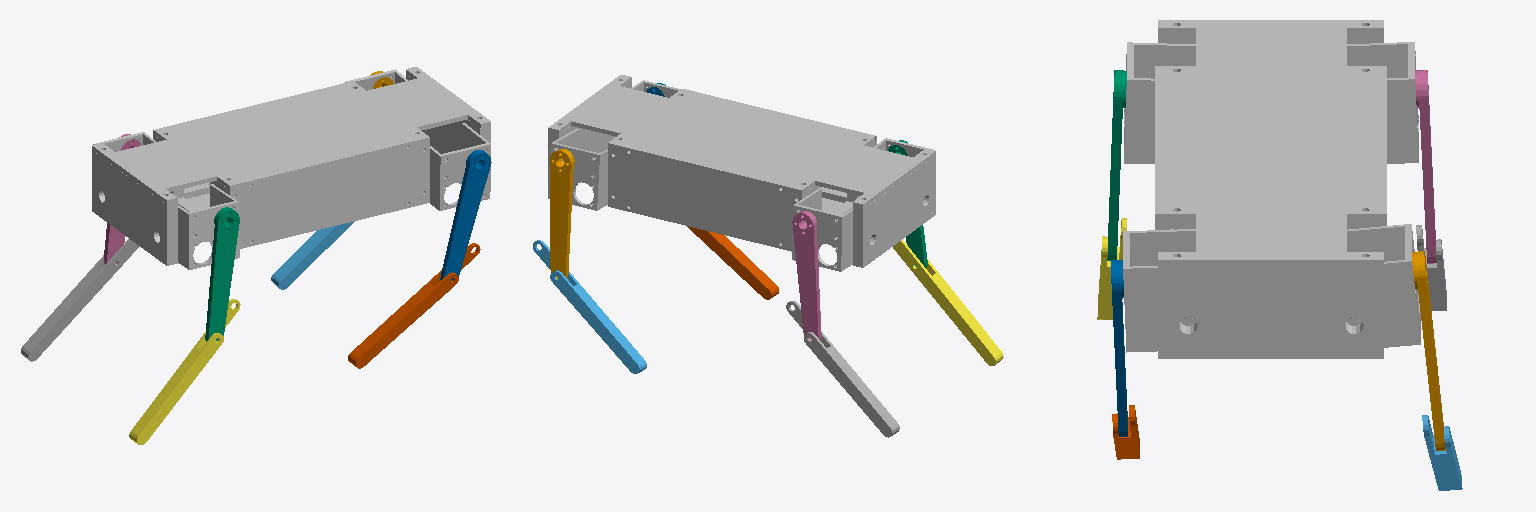
robot.urdf — Assem_urdf:
<?xml version="1.0"?>
<robot name="Assem_urdf">

  <ros2_control name="RobotDogSystem" type="system">
    <hardware>
      <plugin>gazebo_ros2_control/GazeboSystem</plugin>
    </hardware>

    <joint name="lw1">
      <command_interface name="position"/>
      <state_interface name="position"/>
      <state_interface name="velocity"/>
    </joint>
    <joint name="lf1">
      <command_interface name="position"/>
      <state_interface name="position"/>
      <state_interface name="velocity"/>
    </joint>
    <joint name="lw2">
      <command_interface name="position"/>
      <state_interface name="position"/>
      <state_interface name="velocity"/>
    </joint>
    <joint name="lf2">
      <command_interface name="position"/>
      <state_interface name="position"/>
      <state_interface name="velocity"/>
    </joint>
    <joint name="rw1">
      <command_interface name="position"/>
      <state_interface name="position"/>
      <state_interface name="velocity"/>
    </joint>
    <joint name="rf1">
      <command_interface name="position"/>
      <state_interface name="position"/>
      <state_interface name="velocity"/>
    </joint>
    <joint name="rw2">
      <command_interface name="position"/>
      <state_interface name="position"/>
      <state_interface name="velocity"/>
    </joint>
    <joint name="rf2">
      <command_interface name="position"/>
      <state_interface name="position"/>
      <state_interface name="velocity"/>
    </joint>
  </ros2_control>

  <!-- ==================== Gazebo ros2_control plugin ==================== -->
  <gazebo>
    <plugin name="gazebo_ros2_control" filename="libgazebo_ros2_control.so">
      <!-- This YAML is installed into ros2_ws/install/share/robot_dog_description/config -->
      <parameters>[local-path]/ros2_ws/install/share/robot_dog_description/config/dog_ros2_control.yaml</parameters>
      <!-- Node that holds robot_description -->
      <robot_param_node>robot_state_publisher</robot_param_node>
    </plugin>
  </gazebo>


  <!-- ====================== BASE ====================== -->

  <link name="world"/>

  <joint name="fixed" type="fixed">
    <parent link="world"/>
    <child  link="base_link"/>
  </joint>
  
  <link name="base_link">
    <inertial>
      <origin xyz="0 0 0.05" rpy="0 0 0"/>
      <mass value="0.6"/>
      <inertia ixx="0.01" ixy="0" ixz="0" iyy="0.02" iyz="0" izz="0.03"/>
    </inertial>
    <visual>
      <origin xyz="0 0 0.00" rpy="0 0 0"/>
      <geometry>
        <mesh filename="package://robot_dog_description/meshes/base_link.STL"/>
      </geometry>
      <material name="grey">
        <color rgba="0.8 0.8 0.8 1.0"/>
      </material>
    </visual>
    <collision>
      <origin xyz="0 0 0.05" rpy="0 0 0"/>
      <geometry>
        <box size="0.4 0.25 0.1"/>
      </geometry>
    </collision>
  </link>

  

  <!-- ====================== LEFT FRONT ====================== -->
  <link name="lw1_Link">
    <inertial>
      <origin xyz="0.0294355071318292 -0.0279861881345817 0.0107023152362788" rpy="0 0 0"/>
      <mass value="0.0102661782337473"/>
      <inertia ixx="5.3112238187855E-06" ixy="5.32348621024683E-06" ixz="4.49856538835351E-09"
               iyy="5.9870101216466E-06" iyz="-1.19290211129481E-08" izz="1.12133552255117E-05"/>
    </inertial>
    <visual>
      <origin xyz="0 0 0" rpy="0 0 0"/>
      <geometry>
        <mesh filename="package://robot_dog_description/meshes/lw1_Link.STL"/>
      </geometry>
    </visual>
    <collision>
      <origin xyz="0 0 0" rpy="0 0 0"/>
      <geometry>
        <box size="0.05 0.05 0.12"/>
      </geometry>
    </collision>
  </link>

  <joint name="lw1" type="continuous">
    <origin xyz="-0.0486518853313576 -0.159586305367867 0.0938764579327735"
            rpy="1.4803808022734 0.956461914840796 -0.0465507800710082"/>
    <parent link="base_link"/>
    <child link="lw1_Link"/>
    <axis xyz="0 0.0334629964207702 -0.999439957111253"/>
    <gazebo><damping>1.0</damping></gazebo>
  </joint>

  <link name="lf1_Link">
    <inertial>
      <origin xyz="-0.0347470712199882 -0.0347174334832962 0.01153794551305" rpy="0 0 0"/>
      <mass value="0.0138724243812204"/>
      <inertia ixx="7.87491119046254E-06" ixy="-7.64039904525002E-06" ixz="-4.67363714326181E-08"
               iyy="8.0619995318235E-06" iyz="-4.40213169501729E-08" izz="1.55450824925124E-05"/>
    </inertial>
    <visual>
      <origin xyz="0 0 0" rpy="0 0 0"/>
      <geometry>
        <mesh filename="package://robot_dog_description/meshes/lf1_Link.STL"/>
      </geometry>
    </visual>
    <collision>
      <origin xyz="0 0 -0.03" rpy="0 0 0"/>
      <geometry>
        <box size="0.04 0.04 0.16"/>
      </geometry>
    </collision>
  </link>

  <joint name="lf1" type="continuous">
    <origin xyz="0.0729332006769328 -0.0683257813162797 -0.00383940754607373"
            rpy="-0.0141931658643792 -0.0273626728574026 0.956962105472334"/>
    <parent link="lw1_Link"/>
    <child link="lf1_Link"/>
    <axis xyz="0 0.0334629964207686 -0.999439957111253"/>
    <gazebo><damping>1.0</damping></gazebo>
  </joint>

  <!-- ====================== LEFT REAR ====================== -->
  <link name="lw2_Link">
    <inertial>
      <origin xyz="0.0265881467654214 -0.0305557124583063 0.00460678958994101" rpy="0 0 0"/>
      <mass value="0.0102661804611414"/>
      <inertia ixx="6.35547144760047E-06" ixy="5.28705564184227E-06" ixz="3.92611234937417E-08"
               iyy="4.94315302408169E-06" iyz="-5.33953543756357E-08" izz="1.1212968878631E-05"/>
    </inertial>
    <visual>
      <origin xyz="0 0 0" rpy="0 0 0"/>
      <geometry>
        <mesh filename="package://robot_dog_description/meshes/lw2_Link.STL"/>
      </geometry>
    </visual>
    <collision>
      <origin xyz="0 0 0" rpy="0 0 0"/>
      <geometry>
        <box size="0.05 0.05 0.12"/>
      </geometry>
    </collision>
  </link>

  <joint name="lw2" type="continuous">
    <origin xyz="0.183348114668642 -0.166697590516129 0.0918873779460381"
            rpy="1.59975461206515 0.974145514035378 0.0546662405475365"/>
    <parent link="base_link"/>
    <child link="lw2_Link"/>
    <axis xyz="0 0.0370869976042873 -0.999312040660323"/>
    <gazebo><damping>1.0</damping></gazebo>
  </joint>

  <link name="lf2_Link">
    <inertial>
      <origin xyz="-0.0349975693805105 -0.034227497842428 0.00397972100937141" rpy="0 0 0"/>
      <mass value="0.0138724243812204"/>
      <inertia ixx="7.76298952907492E-06" ixy="-7.63800576274064E-06" ixz="-7.2853938017049E-08"
               iyy="8.17429882349408E-06" iyz="-6.85400781872853E-08" izz="1.55447048622295E-05"/>
    </inertial>
    <visual>
      <origin xyz="0 0 0" rpy="0 0 0"/>
      <geometry>
        <mesh filename="package://robot_dog_description/meshes/lf2_Link.STL"/>
      </geometry>
    </visual>
    <collision>
      <origin xyz="0 0 -0.03" rpy="0 0 0"/>
      <geometry>
        <box size="0.04 0.04 0.16"/>
      </geometry>
    </collision>
  </link>

  <joint name="lf2" type="continuous">
    <origin xyz="0.0658782240381146 -0.0751816100831581 -0.00279017972324053"
            rpy="-0.0106799214533978 -0.0260470967610606 0.778201657752925"/>
    <parent link="lw2_Link"/>
    <child link="lf2_Link"/>
    <axis xyz="0 0.0370869976042862 -0.999312040660323"/>
    <gazebo><damping>1.0</damping></gazebo>
  </joint>

  <!-- ====================== RIGHT FRONT ====================== -->
  <link name="rw1_Link">
    <inertial>
      <origin xyz="0.0244856611540245 -0.0323386928164625 0.00536429001724241" rpy="0 0 0"/>
      <mass value="0.0102661782360145"/>
      <inertia ixx="7.05841606923374E-06" ixy="5.13190985346709E-06" ixz="3.61410696387077E-07"
               iyy="4.27324734220006E-06" iyz="-4.82289848949056E-07" izz="1.1179925758767E-05"/>
    </inertial>
    <visual>
      <origin xyz="0 0 0" rpy="0 0 0"/>
      <geometry>
        <mesh filename="package://robot_dog_description/meshes/rw1_Link.STL"/>
      </geometry>
    </visual>
    <collision>
      <origin xyz="0 0 0" rpy="0 0 0"/>
      <geometry>
        <box size="0.05 0.05 0.12"/>
      </geometry>
    </collision>
  </link>

  <joint name="rw1" type="continuous">
    <origin xyz="-0.0486518853313573 -0.0040090858436723 0.0948832020632322"
            rpy="1.58655375452448 0.754750632992008 0.0397496770511494"/>
    <parent link="base_link"/>
    <child link="rw1_Link"/>
    <axis xyz="0 0.0422151848153148 -0.999108541736587"/>
    <gazebo><damping>1.0</damping></gazebo>
  </joint>

  <link name="rf2_Link">
    <inertial>
      <origin xyz="-0.0369322169051506 -0.0324986433354692 0.00407101301591617" rpy="0 0 0"/>
      <mass value="0.0138724243812203"/>
      <inertia ixx="6.87151407761057E-06" ixy="-7.50120314525142E-06" ixz="-9.56825391988332E-07"
               iyy="9.16935261774649E-06" iyz="-8.1518207405121E-07" izz="1.54411265194409E-05"/>
    </inertial>
    <visual>
      <origin xyz="0 0 0" rpy="0 0 0"/>
      <geometry>
        <mesh filename="package://robot_dog_description/meshes/rf2_Link.STL"/>
      </geometry>
    </visual>
    <collision>
      <origin xyz="0 0 -0.03" rpy="0 0 0"/>
      <geometry>
        <box size="0.04 0.04 0.16"/>
      </geometry>
    </collision>
  </link>

  <joint name="rf2" type="continuous">
    <origin xyz="0.0606688252702355 -0.0794231193619931 -0.00335585326559978"
            rpy="-0.0667513450446326 -0.0289517704377246 0.755145013763537"/>
    <parent link="rw1_Link"/>
    <child link="rf2_Link"/>
    <axis xyz="0 0.0973417259455815 -0.995251017778899"/>
    <gazebo><damping>1.0</damping></gazebo>
  </joint>

  <!-- ====================== RIGHT REAR ====================== -->
  <link name="rw2_Link">
    <inertial>
      <origin xyz="0.015541476475949 -0.0373018787417395 -0.00125830631749935" rpy="0 0 0"/>
      <mass value="0.0102661782607277"/>
      <inertia ixx="9.40202428147302E-06" ixy="3.76252661144346E-06" ixz="4.60117044556986E-07"
               iyy="2.03202596292605E-06" iyz="-1.11722265307518E-06" izz="1.10775389722505E-05"/>
    </inertial>
    <visual>
      <origin xyz="0 0 0" rpy="0 0 0"/>
      <geometry>
        <mesh filename="package://robot_dog_description/meshes/rw2_Link.STL"/>
      </geometry>
    </visual>
    <collision>
      <origin xyz="0 0 0" rpy="0 0 0"/>
      <geometry>
        <box size="0.05 0.05 0.12"/>
      </geometry>
    </collision>
  </link>

  <joint name="rw2" type="continuous">
    <origin xyz="0.183348114668642 -0.0094675357369486 0.0967989265294509"
            rpy="1.58048771736314 0.42778792378601 0.0446091795717887"/>
    <parent link="base_link"/>
    <child link="rw2_Link"/>
    <axis xyz="0 0.097341725945581 -0.995251017778899"/>
    <gazebo><damping>1.0</damping></gazebo>
  </joint>

  <link name="rf1_Link">
    <inertial>
      <origin xyz="-0.0382049470391163 -0.0305085972068322 0.0015826454128704" rpy="0 0 0"/>
      <mass value="0.0138724243812203"/>
      <inertia ixx="6.25889588174784E-06" ixy="-7.42756117541375E-06" ixz="-5.43795913468122E-07"
               iyy="9.70931517647486E-06" iyz="-4.2925412184231E-07" izz="1.55137821565756E-05"/>
    </inertial>
    <visual>
      <origin xyz="0 0 0" rpy="0 0 0"/>
      <geometry>
        <mesh filename="package://robot_dog_description/meshes/rf1_Link.STL"/>
      </geometry>
    </visual>
    <collision>
      <origin xyz="0 0 -0.03" rpy="0 0 0"/>
      <geometry>
        <box size="0.04 0.04 0.16"/>
      </geometry>
    </collision>
  </link>

  <joint name="rf1" type="continuous">
    <origin xyz="0.0385075622975288 -0.0918502257847256 -0.00898352209307943"
            rpy="0.0464430751418109 -0.0405869350659848 0.428163754008178"/>
    <parent link="rw2_Link"/>
    <child link="rf1_Link"/>
    <axis xyz="0 0.0422151848153148 -0.999108541736587"/>
    <gazebo><damping>1.0</damping></gazebo>
  </joint>

</robot>

--- Render facts (derived) ---
3 views of the same robot in one strip: view 1: azimuth 30°, elevation 25°; view 2: azimuth 150°, elevation 25°; view 3: azimuth 270°, elevation 25° (orthographic).
Robot: Assem_urdf — 10 links, 9 joints (8 continuous, 1 fixed); root link world; default pose: every joint at zero.
Visible links, largest first — view 1: base_link, rf2_Link, lf2_Link, lf1_Link, lw1_Link, lw2_Link, rf1_Link, rw1_Link; view 2: base_link, lf1_Link, rf2_Link, rf1_Link, rw2_Link, rw1_Link, lf2_Link, lw1_Link; view 3: base_link, rw2_Link, rw1_Link, lw1_Link, lw2_Link, rf1_Link, rf2_Link, lf1_Link, lf2_Link.
Link boxes in pixels (x1,y1,x2,y2): base_link: [92, 67, 490, 269]; rf2_Link: [21, 239, 139, 361]; lf2_Link: [348, 243, 480, 368]; lf1_Link: [129, 299, 240, 444]; lw1_Link: [205, 207, 239, 341]; lw2_Link: [440, 150, 491, 280]; rf1_Link: [271, 221, 354, 289]; rw1_Link: [104, 134, 140, 264]; base_link: [548, 75, 935, 271]; lf1_Link: [893, 239, 1003, 365]; rf2_Link: [786, 301, 899, 437]; rf1_Link: [533, 240, 646, 373]; rw2_Link: [550, 149, 574, 278]; rw1_Link: [792, 211, 821, 340]; lf2_Link: [687, 226, 778, 299]; lw1_Link: [888, 140, 927, 267]; base_link: [1123, 20, 1420, 358]; rw2_Link: [1412, 251, 1445, 450]; rw1_Link: [1415, 70, 1436, 263]; lw1_Link: [1107, 70, 1126, 260]; lw2_Link: [1111, 260, 1127, 436]; rf1_Link: [1422, 415, 1462, 490]; rf2_Link: [1416, 225, 1446, 310]; lf1_Link: [1097, 218, 1126, 319]; lf2_Link: [1112, 405, 1139, 459].
Bounding box of the posed robot: 0.3485 × 0.1935 × 0.194 m (x, y, z).
9 mesh visuals loaded from 9 distinct referenced files (9 binary STL).